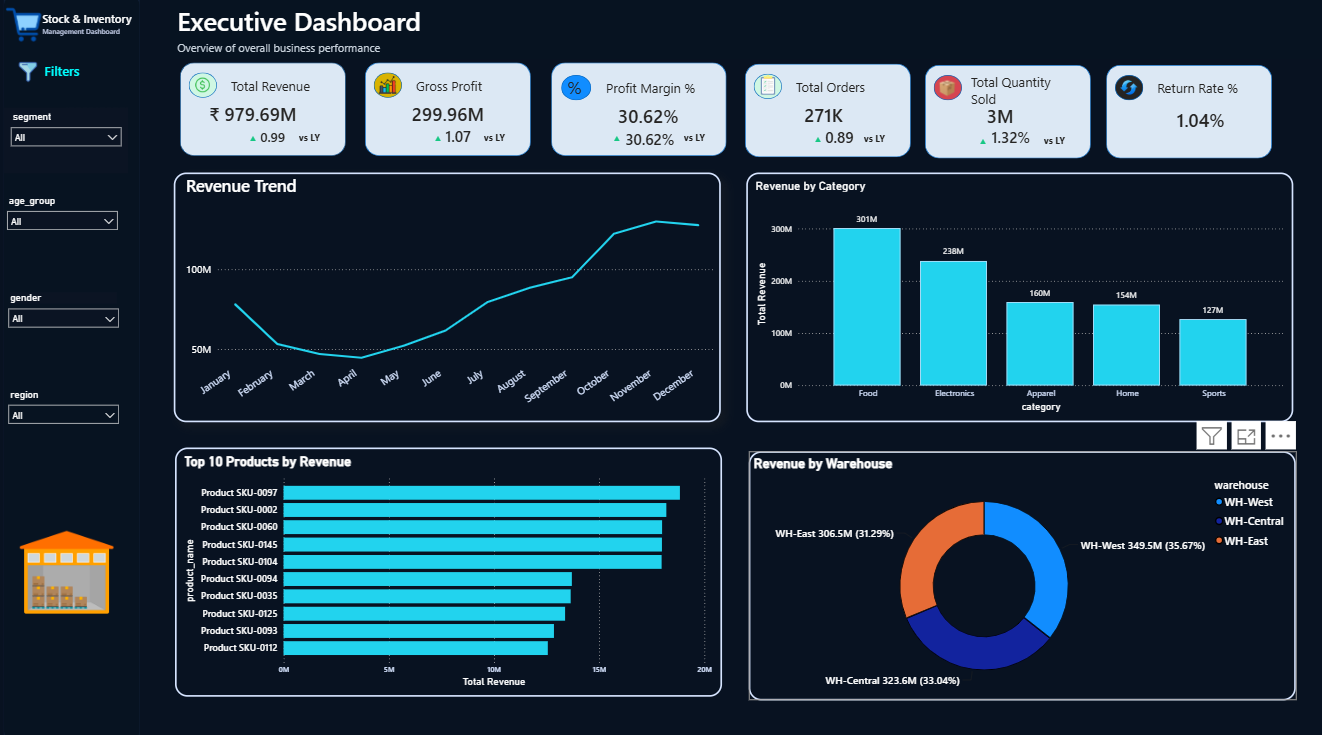

This screenshot's page, from the dashboard's own definition file:
{"tool":"powerbi","page":{"name":"Executive Dashboard","canvas":[1920,1080],"ordinal":0},"visuals":[{"type":"shape","box":[5.3,0,196.8,1080],"z":0,"group":"g8"},{"type":"shape","box":[190,0,12,1080],"z":0},{"type":"shape","box":[259.7,97.4,240,135.3],"z":0,"group":"g1"},{"type":"shape","box":[528.1,97.4,240,135.3],"z":0,"group":"g2"},{"type":"shape","box":[797.3,98,253.8,135.3],"z":0,"group":"g3"},{"type":"shape","box":[1077.7,99.6,240,135.3],"z":0,"group":"g4"},{"type":"shape","box":[1339.6,101.7,240,135.3],"z":0,"group":"g5"},{"type":"shape","box":[1601.5,101.7,240,135.3],"z":0,"group":"g6"},{"type":"shape","box":[246.6,2.2,1668.6,90.9],"z":1000,"group":"g7"},{"type":"group","id":"g1","title":"Group 1","box":[259.7,97.4,240.2,136.3],"z":1000},{"type":"actionButton","box":[1,11.2,65,65.8],"z":2000,"group":"g8"},{"type":"group","id":"g2","title":"Group 1","box":[528.1,97.4,242.4,136.3],"z":2000},{"type":"textbox","box":[56.5,18.1,155,45],"z":3000,"group":"g8"},{"type":"group","id":"g3","title":"Group 1","box":[797.3,98,280.6,135.3],"z":3000},{"type":"group","id":"g4","title":"Group 1","box":[1077.7,99.6,257.5,134.2],"z":4000},{"type":"textbox","box":[55.8,35,139.2,55],"z":5000,"group":"g8"},{"type":"group","id":"g5","title":"Group 1","box":[1339.6,101.7,262.1,135.3],"z":5000},{"type":"textbox","box":[251.9,8.3,445.8,73.6],"z":6000,"group":"g7"},{"type":"textbox","box":[251.9,60.3,398.2,32.5],"z":7000,"group":"g7"},{"type":"group","id":"g6","title":"Group 1","box":[1601.5,101.7,240,135.3],"z":7000},{"type":"lineChart","title":"Revenue Trend","fields":{"Category":["dim_date.month_name"],"Y":["Measures (2).Total Revenue"]},"box":[251,257.5,792.1,361.4],"z":8000},{"type":"shape","box":[272,111.6,40.9,36.6],"z":9000,"group":"g1"},{"type":"shape","box":[540.4,111.6,40.9,36.6],"z":9000,"group":"g2"},{"type":"shape","box":[1090,113.8,40.9,36.6],"z":9000,"group":"g4"},{"type":"shape","box":[811.6,115.9,43.3,36.6],"z":9000,"group":"g3"},{"type":"shape","box":[1351.9,115.9,40.9,36.6],"z":9000,"group":"g5"},{"type":"shape","box":[1613.8,115.9,40.9,36.6],"z":9000,"group":"g6"},{"type":"clusteredColumnChart","title":"Revenue by Category","fields":{"Category":["dim_products.category"],"Y":["Measures (2).Total Revenue"]},"box":[1079.9,257.5,792,361.4],"z":9000},{"type":"image","box":[1091.6,114.3,37,33],"z":10000,"group":"g4"},{"type":"image","box":[280.2,116,25.5,28.6],"z":10000,"group":"g1"},{"type":"image","box":[548.6,116,25.5,28.6],"z":10000,"group":"g2"},{"type":"image","box":[1360.1,120.3,25.5,28.6],"z":10000,"group":"g5"},{"type":"image","box":[1622,120.3,25.5,28.6],"z":10000,"group":"g6"},{"type":"clusteredBarChart","title":"Top 10 Products by Revenue","fields":{"Category":["dim_products.product_name"],"Y":["Measures (2).Total Revenue"]},"box":[253.2,655.7,792,361],"z":10000},{"type":"textbox","box":[1401.1,108.8,149.3,71.4],"z":11000,"group":"g5"},{"type":"textbox","box":[328.4,114.2,142.7,42],"z":11000,"group":"g1"},{"type":"textbox","box":[596.8,114.2,142.7,42],"z":11000,"group":"g2"},{"type":"textbox","box":[1146.4,116.4,142.7,42],"z":11000,"group":"g4"},{"type":"textbox","box":[1670.2,118.5,142.7,42],"z":11000,"group":"g6"},{"type":"textbox","box":[871.2,118.6,150.9,42],"z":11000,"group":"g3"},{"type":"donutChart","title":"Revenue by Warehouse","fields":{"Category":["dim_products.warehouse"],"Y":["Measures (2).Total Revenue"]},"box":[1084.2,660.1,792,361],"z":11000},{"type":"group","id":"g7","title":"Group 2","box":[246.6,2.2,1668.6,90.9],"z":12000},{"type":"cardVisual","fields":{"Data":["Measures (2).Total Revenue"]},"box":[284.5,135,190,68.7],"z":12000,"group":"g1"},{"type":"cardVisual","fields":{"Data":["Measures (2).Gross Profit"]},"box":[579.6,135,190,68.7],"z":12000,"group":"g2"},{"type":"cardVisual","fields":{"Data":["Measures (2).Total Orders"]},"box":[1145.8,137.2,190,68.7],"z":12000,"group":"g4"},{"type":"cardVisual","fields":{"Data":["Measures (2).Total Quantity Sold"]},"box":[1411.7,139.3,190,68.7],"z":12000,"group":"g5"},{"type":"cardVisual","fields":{"Data":["Measures (2).Profit Margin %"]},"box":[877,139.4,200.9,68.7],"z":12000,"group":"g3"},{"type":"cardVisual","fields":{"Data":["Measures (2).Return Rate %"]},"box":[1687.1,145.6,138.5,69.3],"z":12000,"group":"g6"},{"type":"group","id":"g8","title":"Group 3","box":[0,0,211.5,1080],"z":13000},{"type":"cardVisual","fields":{"Data":["Measures (2).Revenue Growth %"]},"box":[352.5,181.2,94,45.2],"z":13000,"group":"g1"},{"type":"cardVisual","fields":{"Data":["Measures (2).Profit Growth %"]},"box":[620.9,181.2,94,45.2],"z":13000,"group":"g2"},{"type":"cardVisual","fields":{"Data":["Measures (2).Orders Growth %"]},"box":[1170.5,183.4,94,45.2],"z":13000,"group":"g4"},{"type":"cardVisual","fields":{"Data":["Measures (2).Sales Growth %"]},"box":[1411.7,184,117,45],"z":13000,"group":"g5"},{"type":"cardVisual","fields":{"Data":["Measures (2).Profit Margin %"]},"box":[881.3,184.6,149.2,45],"z":13000,"group":"g3"},{"type":"textbox","box":[361.9,197.6,60.6,28.9],"z":14000,"group":"g1"},{"type":"textbox","box":[630.3,197.6,60.6,28.9],"z":14000,"group":"g2"},{"type":"textbox","box":[888.4,197.9,63.4,28.9],"z":14000,"group":"g3"},{"type":"textbox","box":[1179.9,199.8,60.6,28.9],"z":14000,"group":"g4"},{"type":"textbox","box":[1418.7,201,61,29],"z":14000,"group":"g5"},{"type":"textbox","box":[432.1,196.2,38.7,30.1],"z":15000,"group":"g1"},{"type":"textbox","box":[700.5,196.2,38.7,30.1],"z":15000,"group":"g2"},{"type":"textbox","box":[989.4,197.9,41.1,30],"z":15000,"group":"g3"},{"type":"textbox","box":[1250.1,198.4,38.7,30.1],"z":15000,"group":"g4"},{"type":"textbox","box":[1512,200.5,38.7,30.1],"z":15000,"group":"g5"},{"type":"textbox","box":[820.8,117.7,66.6,111],"z":15008,"group":"g3"},{"type":"slicer","fields":{"Values":["dim_customers.age_group"]},"box":[0,285,180,96.2],"z":19000,"group":"g8"},{"type":"slicer","fields":{"Values":["dim_customers.segment"]},"box":[5,162.5,180,95],"z":20000,"group":"g8"},{"type":"slicer","fields":{"Values":["dim_customers.gender"]},"box":[1.2,425,180,95],"z":21000,"group":"g8"},{"type":"slicer","fields":{"Values":["dim_customers.region"]},"box":[1.2,565,180,95],"z":22000,"group":"g8"},{"type":"textbox","box":[41.2,92.5,103.8,45],"z":23000,"group":"g8"},{"type":"image","box":[0,87.5,81.2,48.8],"z":24000,"group":"g8"},{"type":"image","box":[14,748,164,176],"z":26501,"group":"g8"}]}

Visuals, with their boxes in screenshot pixels (x1, y1, x2, y2), scaled from the page's 1920x1080 canvas onto the 1322x735 screenshot:
shape: (4, 0, 139, 734)
shape: (131, 0, 139, 734)
shape: (179, 66, 344, 158)
shape: (364, 66, 529, 158)
shape: (549, 67, 724, 159)
shape: (742, 68, 907, 160)
shape: (922, 69, 1088, 161)
shape: (1103, 69, 1268, 161)
shape: (170, 1, 1319, 63)
"Group 1" group: (179, 66, 344, 159)
actionButton: (1, 8, 45, 52)
"Group 1" group: (364, 66, 531, 159)
textbox: (39, 12, 146, 43)
"Group 1" group: (549, 67, 742, 159)
"Group 1" group: (742, 68, 919, 159)
textbox: (38, 24, 134, 61)
"Group 1" group: (922, 69, 1103, 161)
textbox: (173, 6, 480, 56)
textbox: (173, 41, 448, 63)
"Group 1" group: (1103, 69, 1268, 161)
"Revenue Trend" lineChart: (173, 175, 718, 421)
shape: (187, 76, 215, 101)
shape: (372, 76, 400, 101)
shape: (751, 77, 779, 102)
shape: (559, 79, 589, 104)
shape: (931, 79, 959, 104)
shape: (1111, 79, 1139, 104)
"Revenue by Category" clusteredColumnChart: (744, 175, 1289, 421)
image: (752, 78, 777, 100)
image: (193, 79, 210, 98)
image: (378, 79, 395, 98)
image: (936, 82, 954, 101)
image: (1117, 82, 1134, 101)
"Top 10 Products by Revenue" clusteredBarChart: (174, 446, 720, 692)
textbox: (965, 74, 1068, 123)
textbox: (226, 78, 324, 106)
textbox: (411, 78, 509, 106)
textbox: (789, 79, 888, 108)
textbox: (1150, 81, 1248, 109)
textbox: (600, 81, 704, 109)
"Revenue by Warehouse" donutChart: (747, 449, 1292, 695)
"Group 2" group: (170, 1, 1319, 63)
cardVisual - Measures (2).Total Revenue: (196, 92, 327, 139)
cardVisual - Measures (2).Gross Profit: (399, 92, 530, 139)
cardVisual - Measures (2).Total Orders: (789, 93, 920, 140)
cardVisual - Measures (2).Total Quantity Sold: (972, 95, 1103, 142)
cardVisual - Measures (2).Profit Margin %: (604, 95, 742, 142)
cardVisual - Measures (2).Return Rate %: (1162, 99, 1257, 146)
"Group 3" group: (0, 0, 146, 734)
cardVisual - Measures (2).Revenue Growth %: (243, 123, 307, 154)
cardVisual - Measures (2).Profit Growth %: (428, 123, 492, 154)
cardVisual - Measures (2).Orders Growth %: (806, 125, 871, 156)
cardVisual - Measures (2).Sales Growth %: (972, 125, 1053, 156)
cardVisual - Measures (2).Profit Margin %: (607, 126, 710, 156)
textbox: (249, 134, 291, 154)
textbox: (434, 134, 476, 154)
textbox: (612, 135, 655, 154)
textbox: (812, 136, 854, 156)
textbox: (977, 137, 1019, 157)
textbox: (298, 134, 324, 154)
textbox: (482, 134, 509, 154)
textbox: (681, 135, 710, 155)
textbox: (861, 135, 887, 156)
textbox: (1041, 136, 1068, 157)
textbox: (565, 80, 611, 156)
slicer - dim_customers.age_group: (0, 194, 124, 259)
slicer - dim_customers.segment: (3, 111, 127, 175)
slicer - dim_customers.gender: (1, 289, 125, 354)
slicer - dim_customers.region: (1, 385, 125, 449)
textbox: (28, 63, 100, 94)
image: (0, 60, 56, 93)
image: (10, 509, 123, 629)
